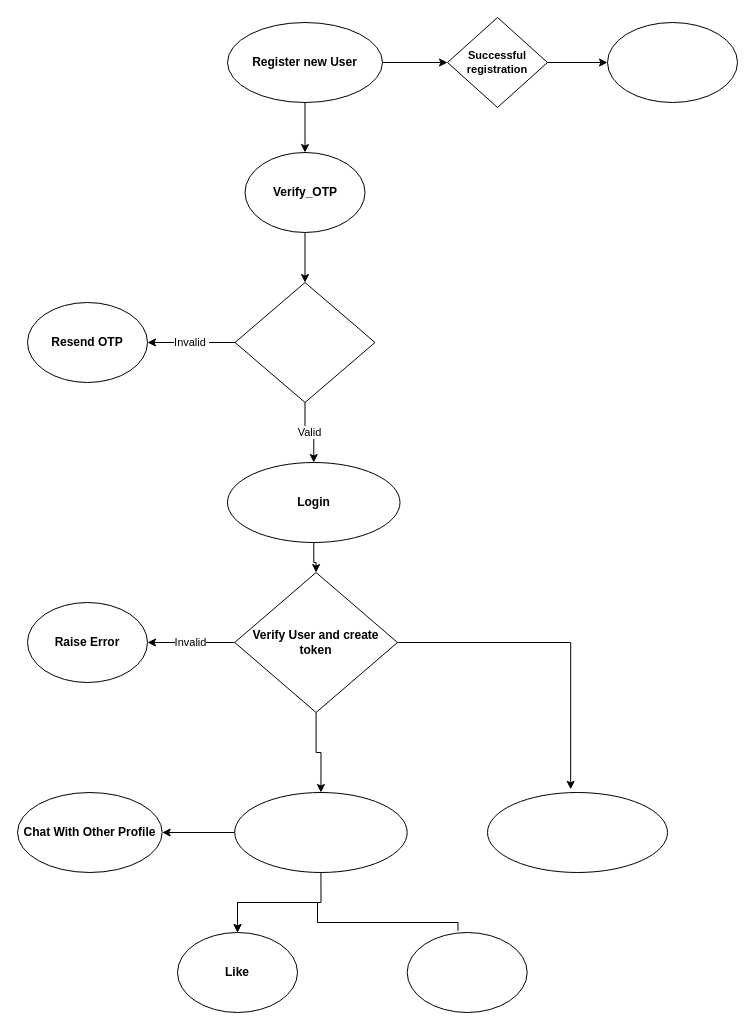
This 755x1030 diagram has some shape labels left out. The centre of each missing label's shape, as x and y in pixels:
Comment: (466,972)
Create User Profile user_id,reg_id other's None: (672,62)
CRUD Own Post: (577,832)
CRUD Own Profile: (320,832)
OTP is valid: (304,342)
